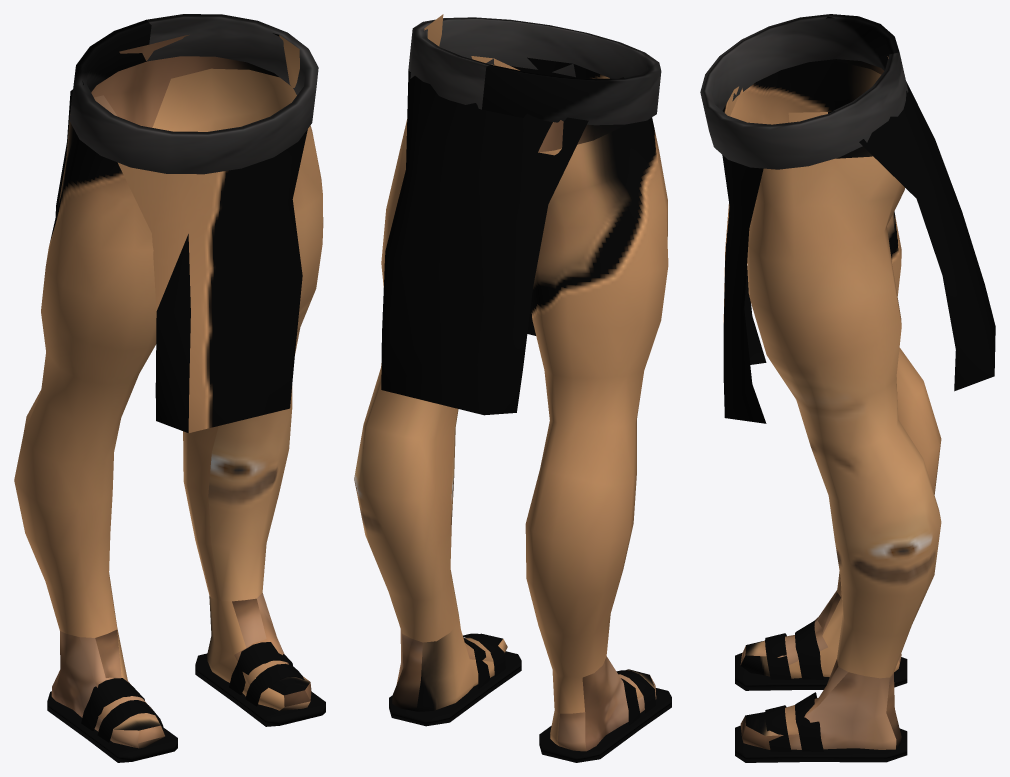
Rendered from standstill.obj.
3 views of the same model, side by side, from view 1: azimuth 30°, elevation 25°; view 2: azimuth 150°, elevation 25°; view 3: azimuth 270°, elevation 25° (orthographic).
Visible parts, largest first — view 1: polySurface15; view 2: polySurface15; view 3: polySurface15.
Part boxes in pixels (x1,y1,x2,y2): polySurface15: [14, 14, 325, 762]; polySurface15: [354, 14, 671, 762]; polySurface15: [700, 14, 995, 762].
Size of the model in its own units: 4.49 by 10.94 by 4.42.
